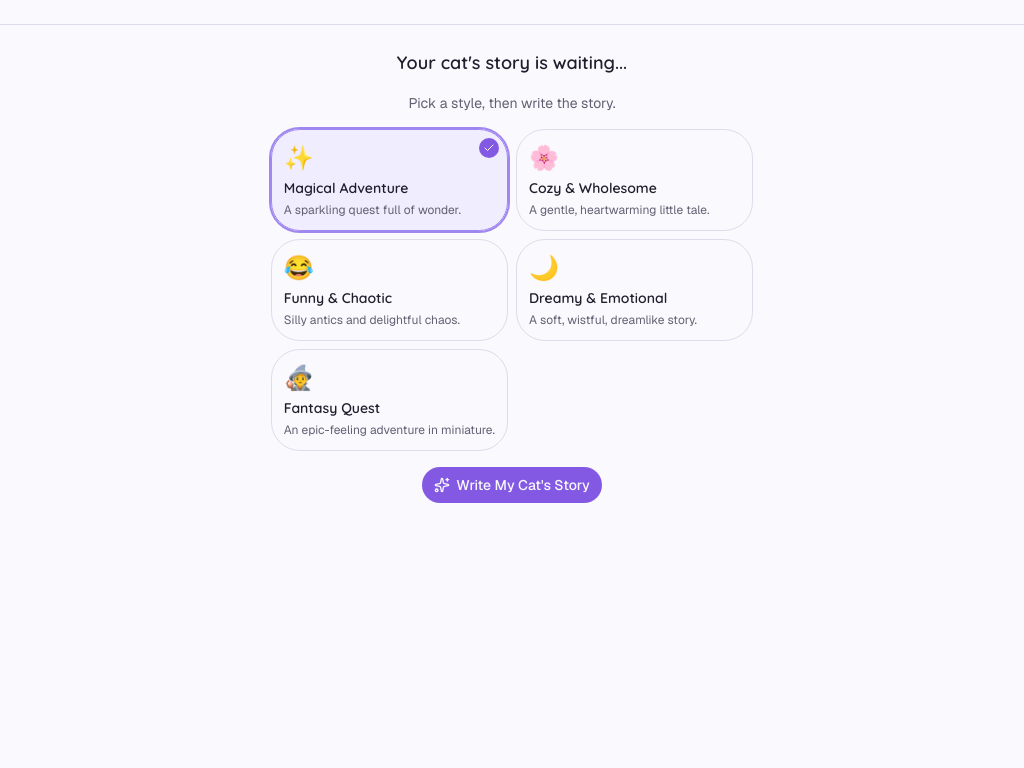
Test: StorySection › generates a story on demand and renders it
Click the button "Write My Cat's Story" at (512, 485), box [422,467,602,503]
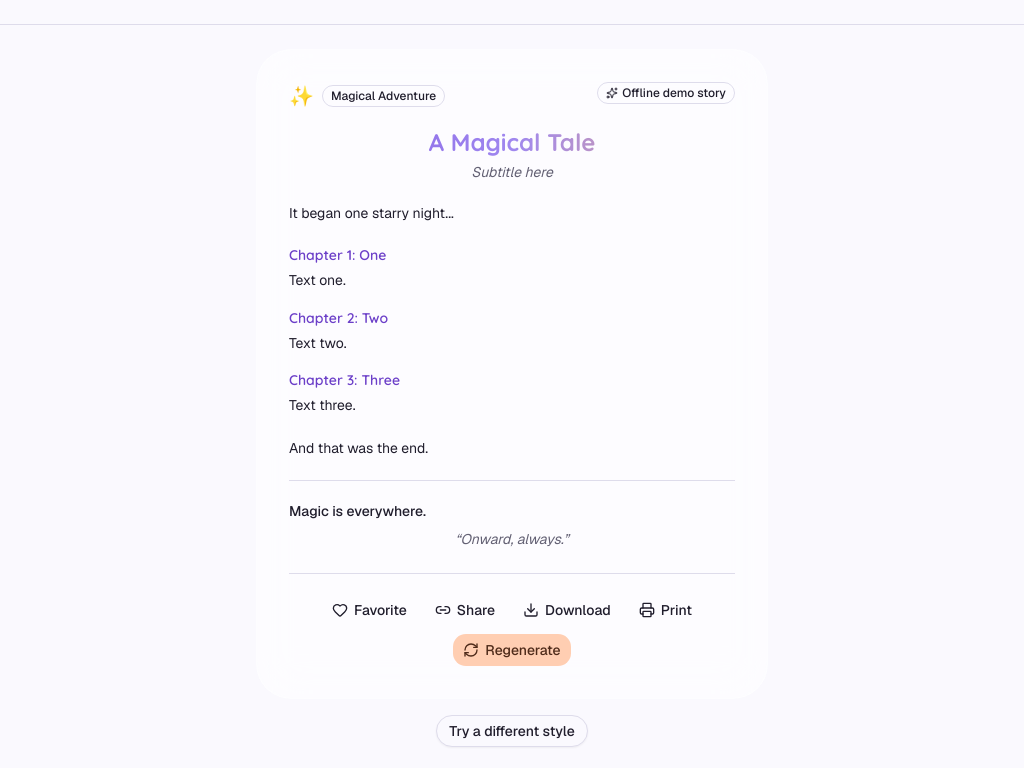
Check: the heading "A Magical Tale" is shown, box [289,126,735,158]
